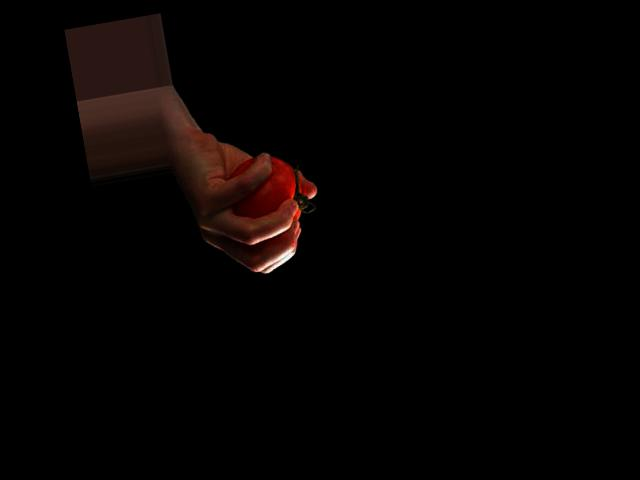tomato: (222, 150, 303, 231)
